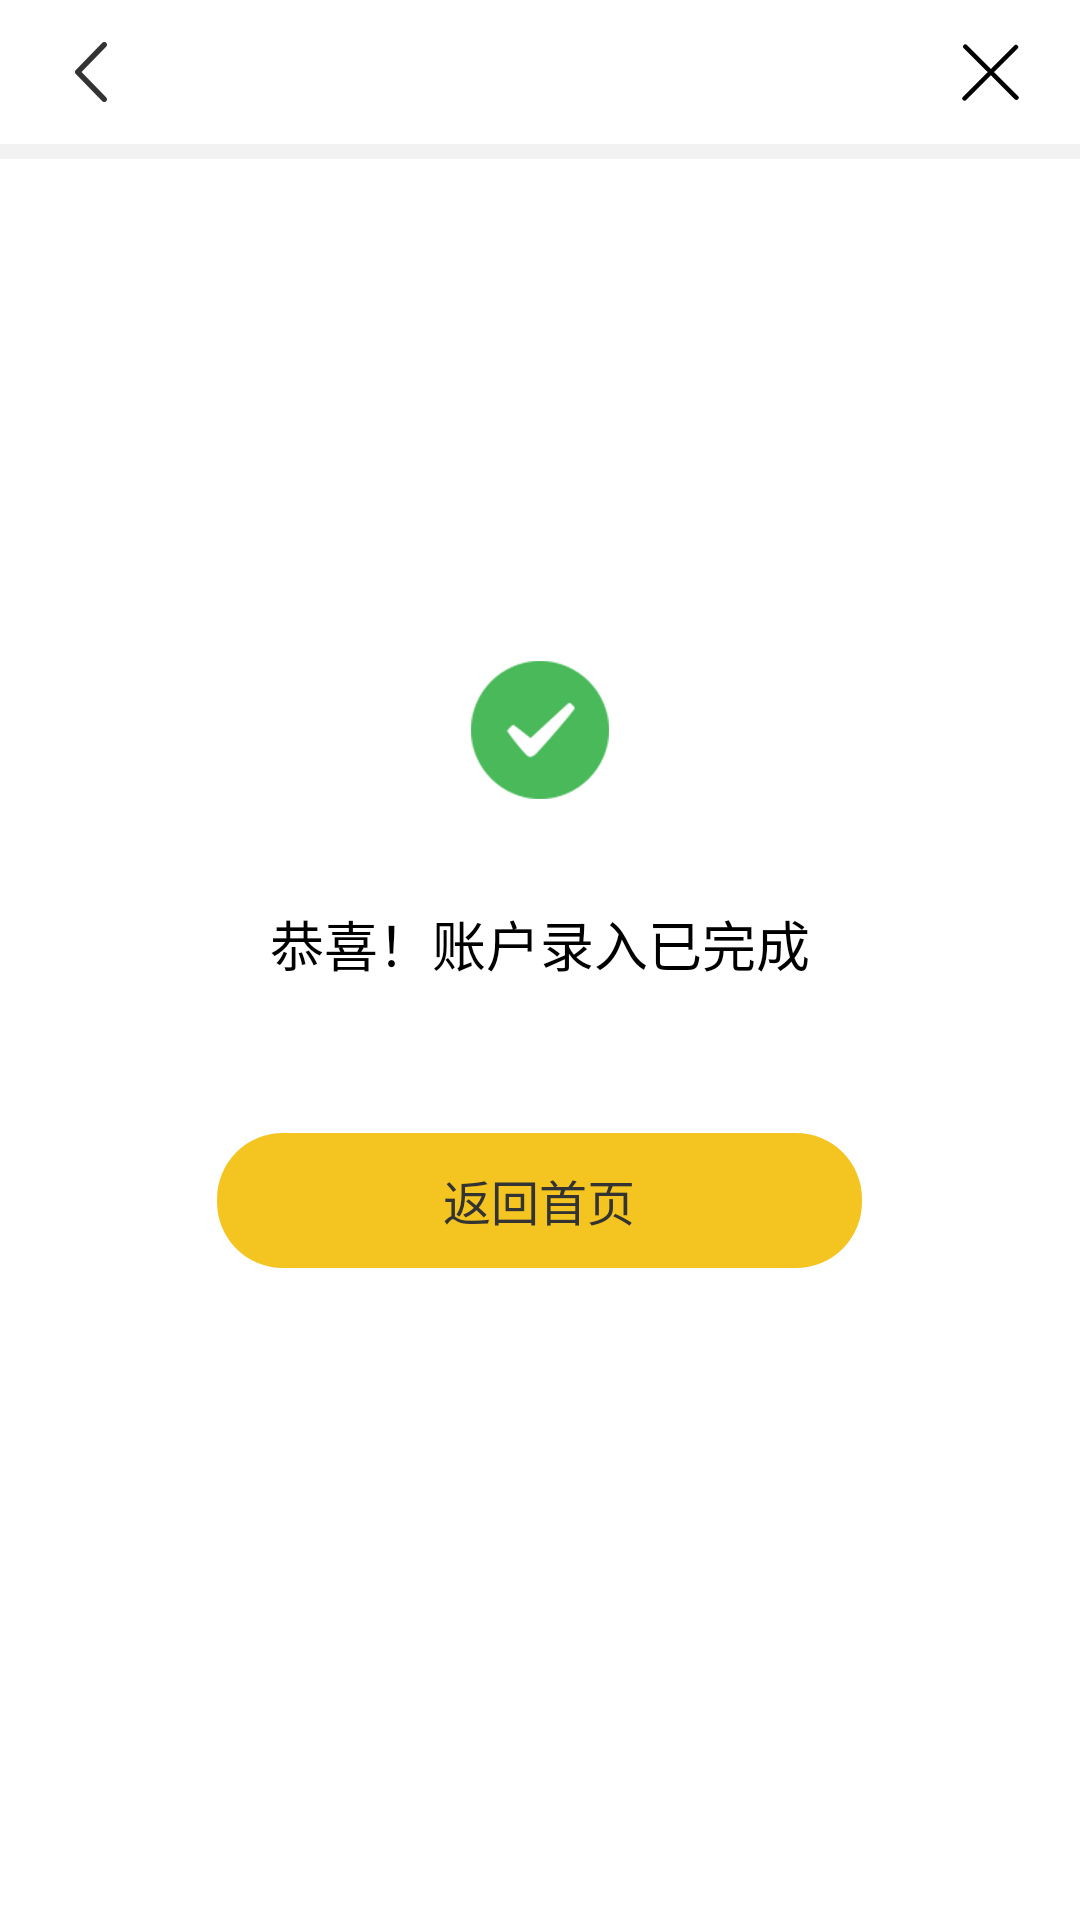

Screen size 1080w x 1920h. Icon name, then its box in pixels as region(x1, y1, x2, y2):
上一步: region(75, 42, 107, 102)
